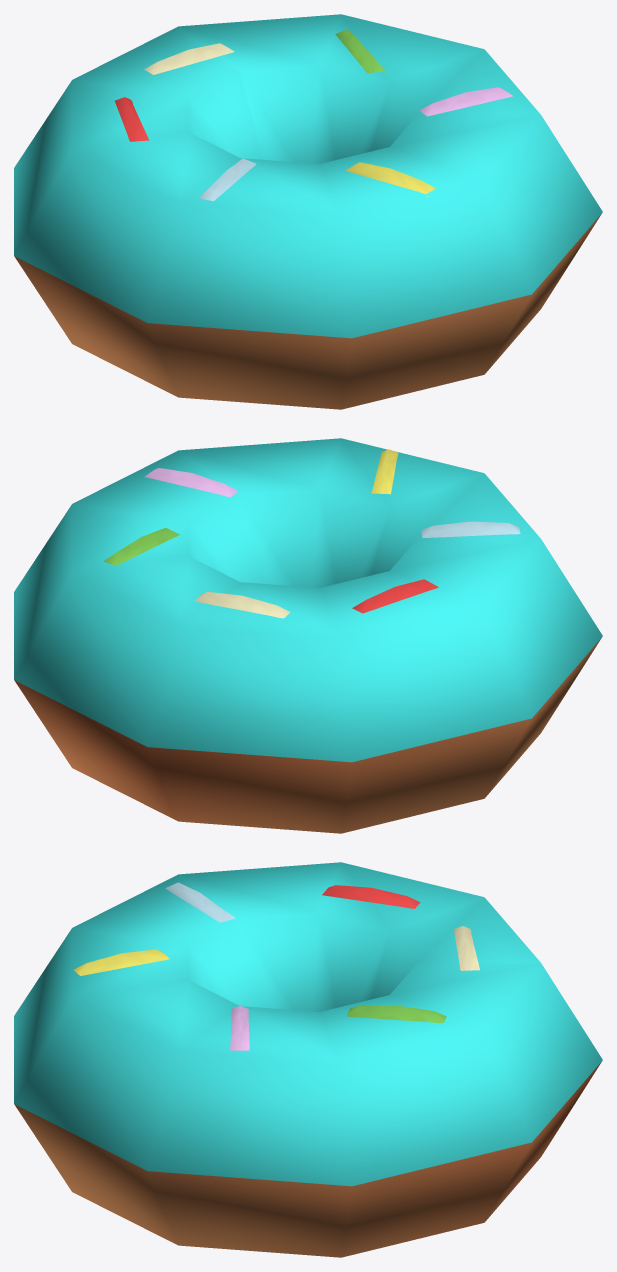
File: Doughnut_F_2.FBX
3 renders of one model, top to bottom at view 1: azimuth 30°, elevation 25°; view 2: azimuth 150°, elevation 25°; view 3: azimuth 270°, elevation 25°, orthographic.
Parts seen in each view (by area): view 1: Doughnut; view 2: Doughnut; view 3: Doughnut.
Boxes of the visible parts, bbox=[...] form: Doughnut: bbox=[14, 14, 602, 409]; Doughnut: bbox=[14, 438, 602, 833]; Doughnut: bbox=[14, 862, 602, 1257].
Bounding box in the file's own units: 52.77 × 19.96 × 51.97.
